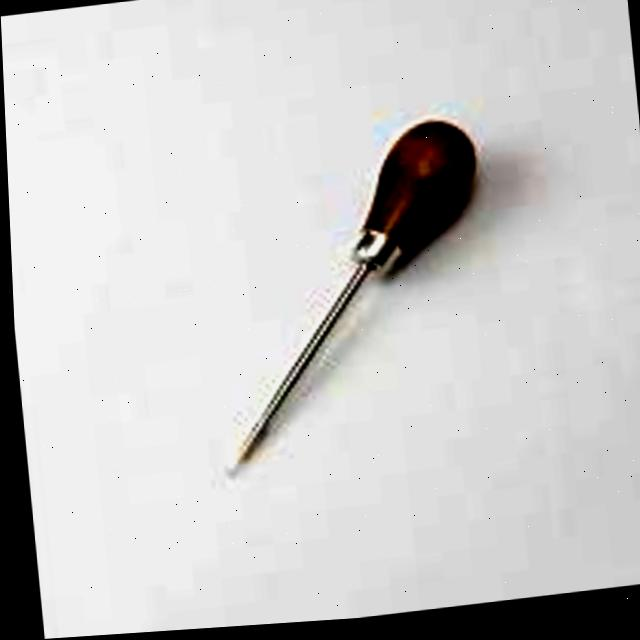ice pick: (195, 119, 509, 479)
